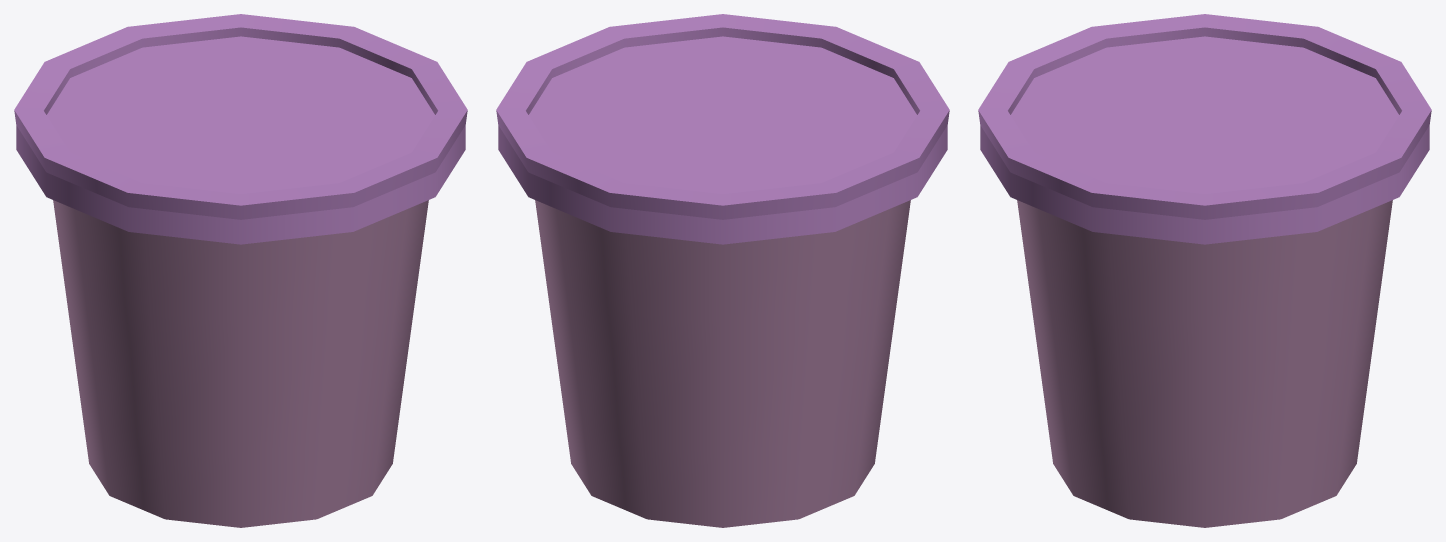
File: IceCream.fbx
The picture shows the model from 3 angles, left to right: view 1: azimuth 30°, elevation 25°; view 2: azimuth 150°, elevation 25°; view 3: azimuth 270°, elevation 25°; orthographic projection.
Visible parts, largest first — view 1: Object001, Cylinder001; view 2: Object001, Cylinder001; view 3: Object001, Cylinder001.
Part boxes in pixels (<box>): Object001: <box>53,200,428,527</box>; Cylinder001: <box>14,14,467,244</box>; Object001: <box>535,200,910,527</box>; Cylinder001: <box>496,14,949,244</box>; Object001: <box>1017,200,1392,527</box>; Cylinder001: <box>978,14,1431,244</box>.
Bounding box in the file's own units: 2.6 × 2.24 × 2.6.
